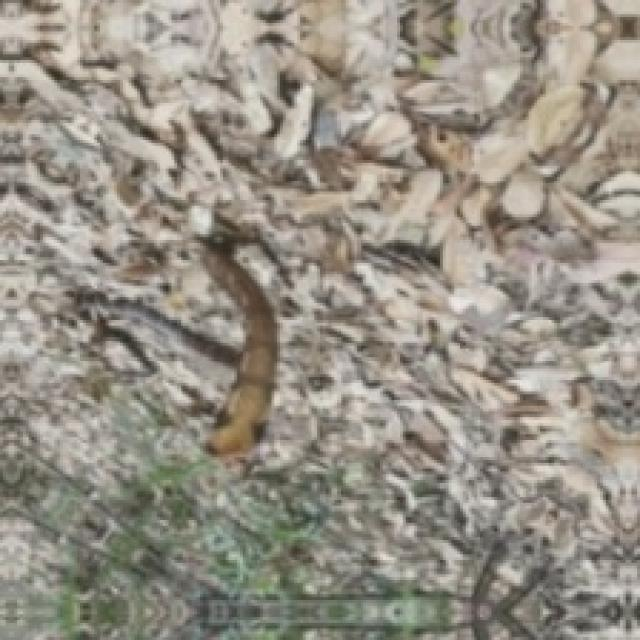king cobra: (200, 240, 274, 454)
